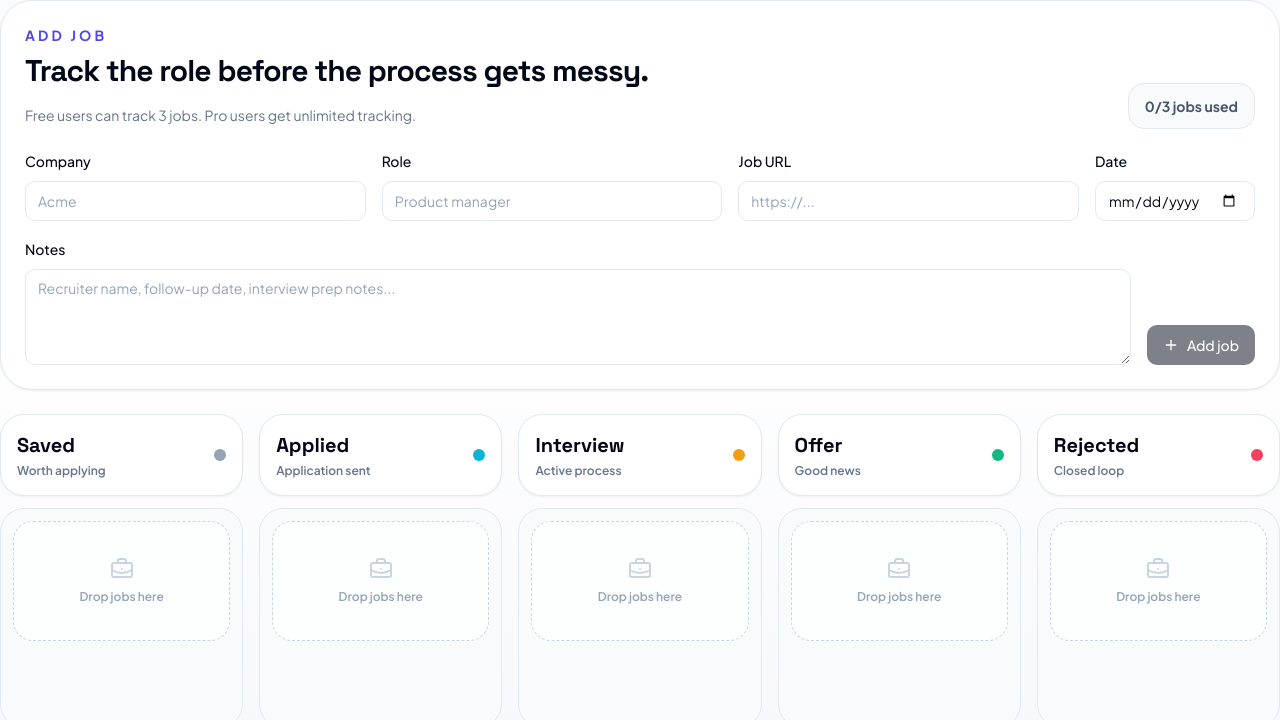
JobTrackerBoard › adds a job to the board
Type "Flux" into the field labelled "Company" at {"x": 195, "y": 201}, box [25, 181, 366, 221]
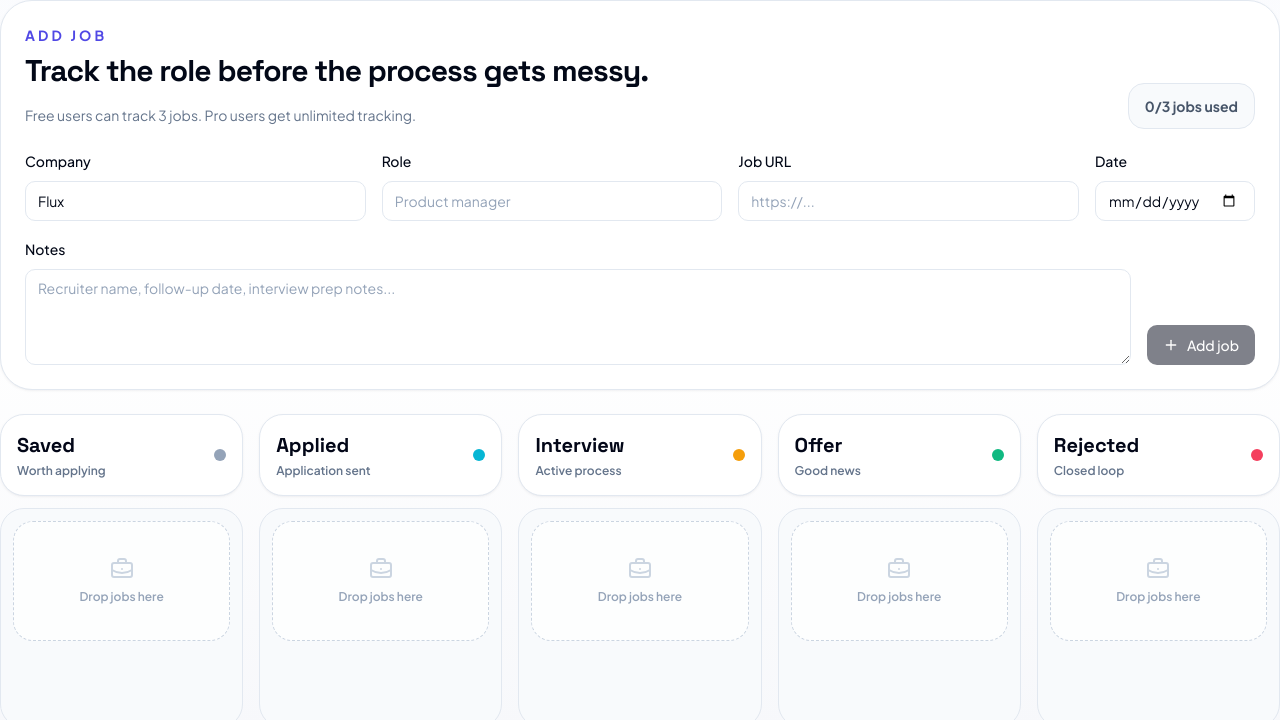
Type "Lifecycle marketer" into the field labelled "Role" at {"x": 552, "y": 201}, box [382, 181, 722, 221]
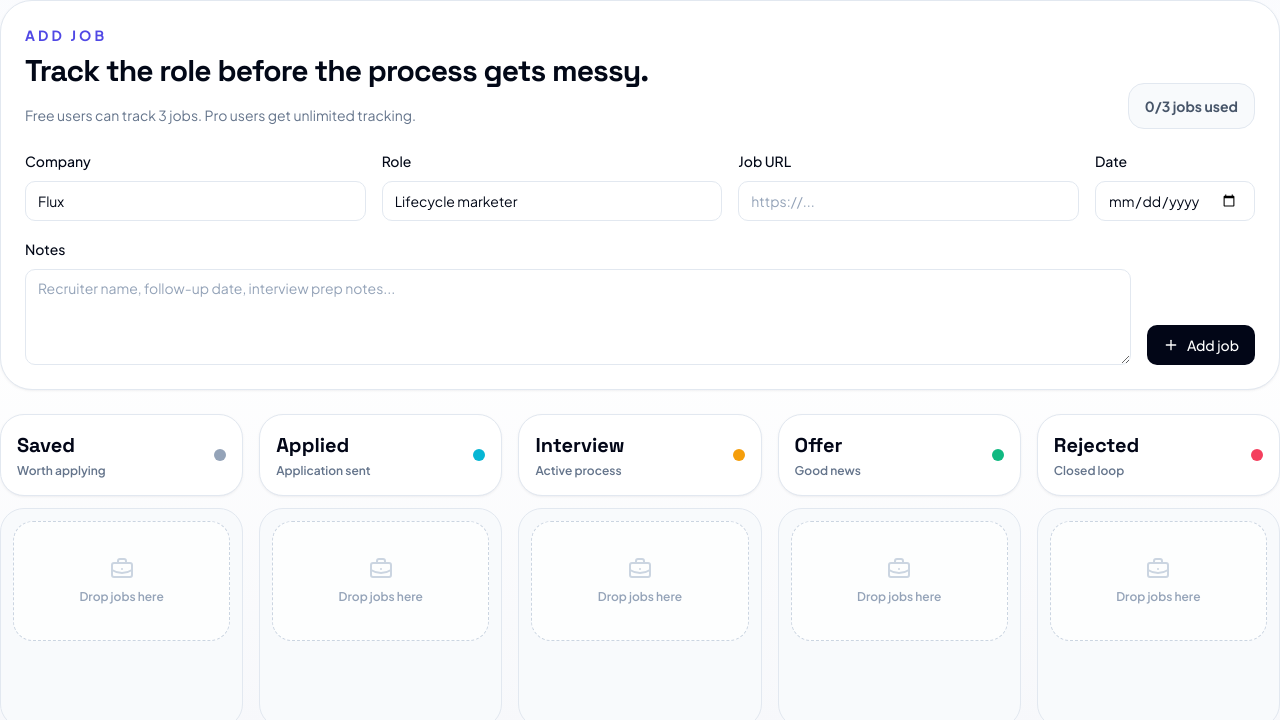
Click the button "Add job" at {"x": 1201, "y": 345}, box [1147, 325, 1255, 365]
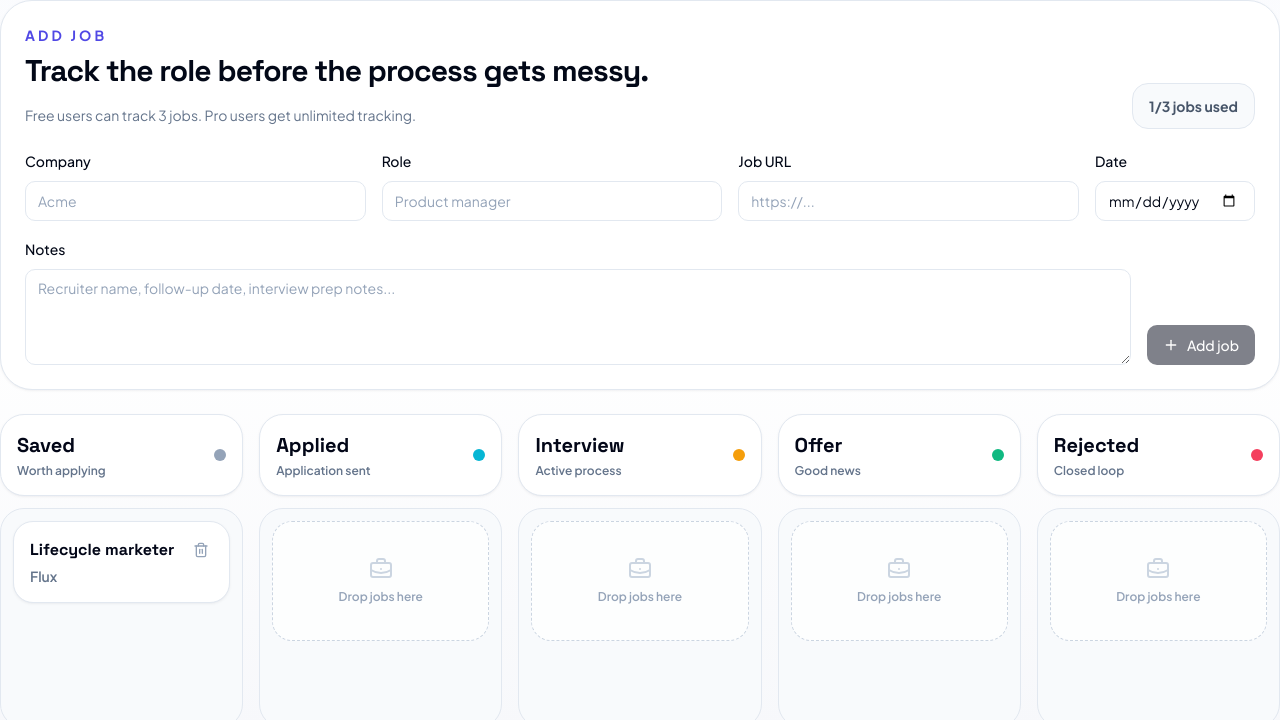
Check: the heading "Lifecycle marketer" is shown, box [30, 538, 174, 562]
